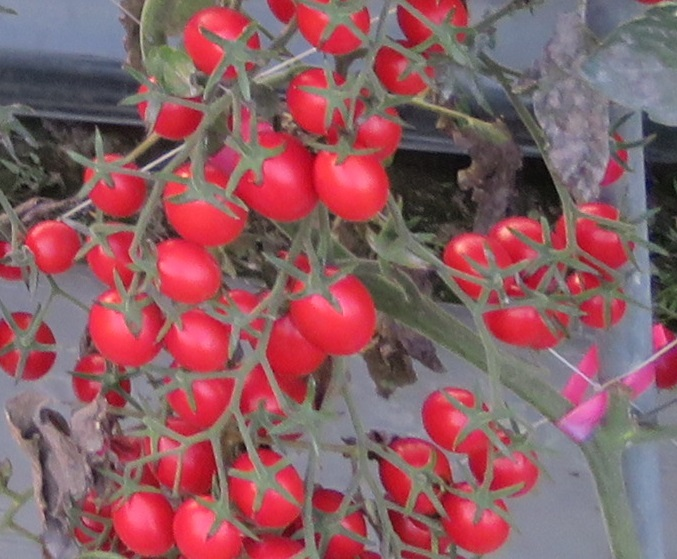red: (287, 267, 378, 353), (233, 133, 315, 222), (159, 163, 245, 245), (221, 448, 308, 527), (481, 278, 571, 349), (239, 364, 320, 441), (138, 236, 229, 304), (312, 143, 390, 220), (87, 289, 164, 366), (379, 435, 450, 516), (179, 8, 261, 74), (441, 482, 514, 556), (329, 88, 403, 160), (419, 386, 496, 455), (143, 423, 217, 494), (159, 360, 235, 425), (556, 206, 641, 264), (468, 428, 539, 497), (439, 232, 511, 298), (83, 151, 153, 218), (171, 493, 242, 558), (304, 487, 368, 559), (109, 485, 171, 559), (137, 76, 205, 142), (161, 310, 235, 369), (298, 2, 373, 56), (1, 311, 57, 380), (265, 315, 327, 376), (396, 1, 469, 52), (290, 69, 350, 131), (566, 269, 626, 329), (373, 40, 435, 96), (73, 353, 132, 411), (488, 216, 554, 265), (24, 220, 83, 274), (85, 219, 140, 274), (219, 289, 266, 343), (598, 132, 628, 187), (1, 240, 27, 281)
